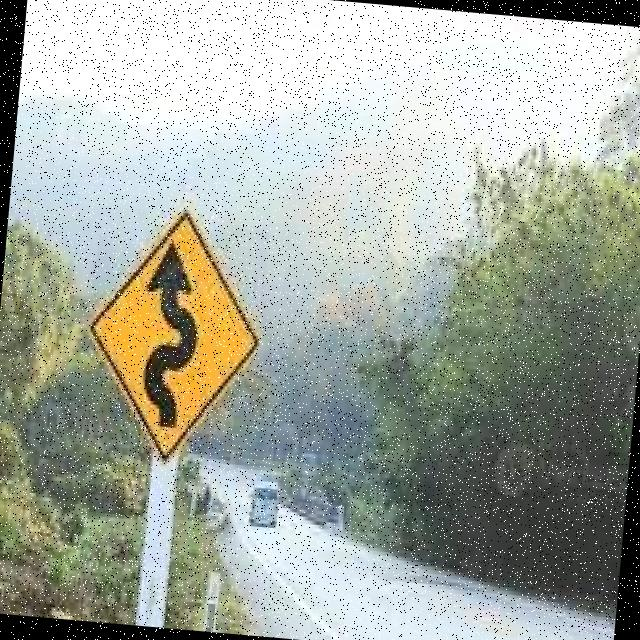left_sharp_curve: (70, 194, 280, 471)
